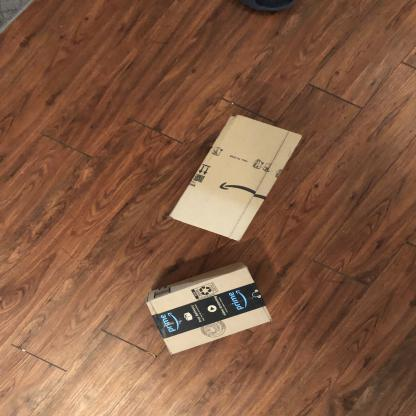package: (163, 111, 308, 246), (140, 258, 278, 358)
